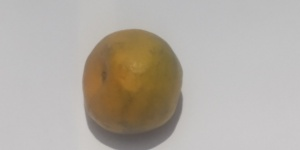BAD: (84, 28, 186, 137)
